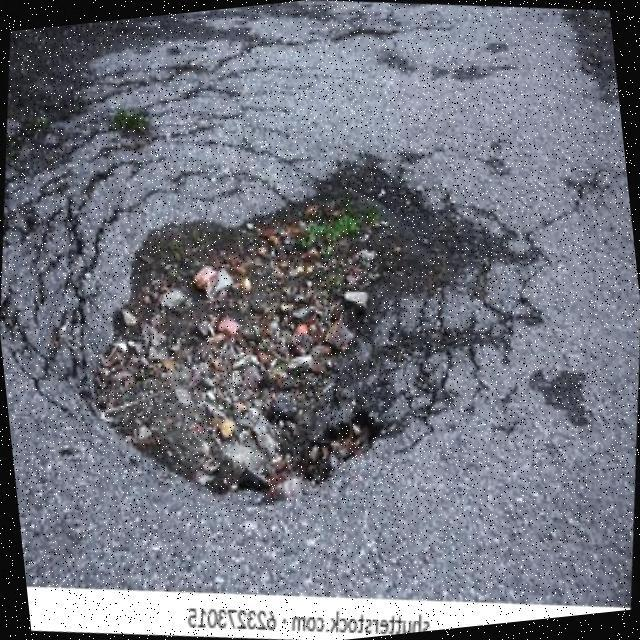Pothole: (91, 154, 521, 503)
